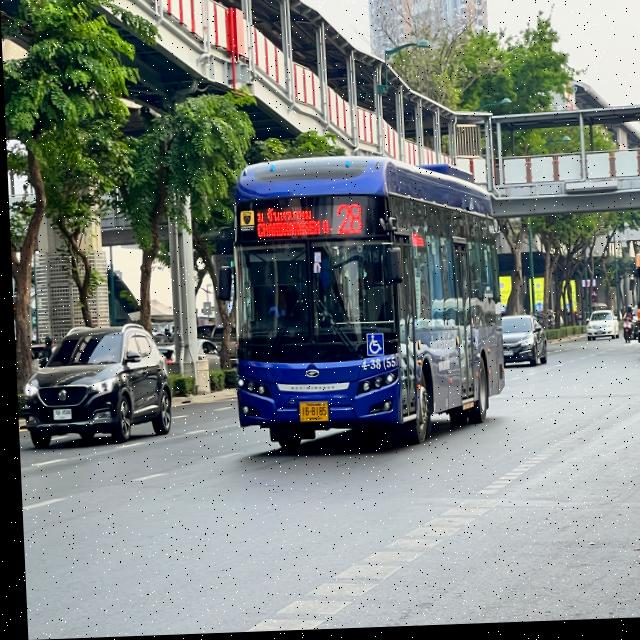Bus-Line-Number: (332, 203, 363, 240)
Destination-Sign-Normal: (250, 205, 331, 242)
TSB-Bus: (217, 141, 508, 456)
